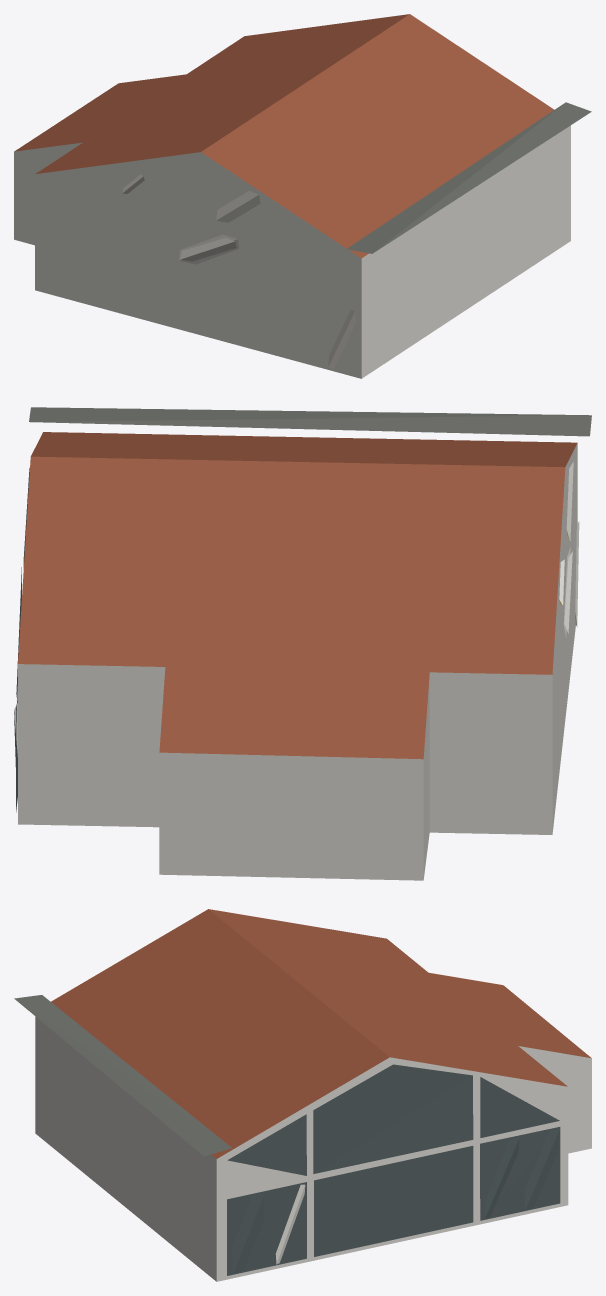
Rendered from tugelahuis-tugelaweg.lod2.glb.
3 views of the same model, one above another, from view 1: azimuth 30°, elevation 25°; view 2: azimuth 150°, elevation 25°; view 3: azimuth 270°, elevation 25° (orthographic). The views are drawn at different scales.
Visible parts, largest first — view 1: lod2; view 2: lod2; view 3: lod2.
Boxes of the visible parts, x1=… form: lod2: x1=14, y1=14, x2=591, y2=378; lod2: x1=14, y1=407, x2=591, y2=880; lod2: x1=14, y1=909, x2=591, y2=1281.
Size of the model in its own units: 16.89 by 6.33 by 17.75.
